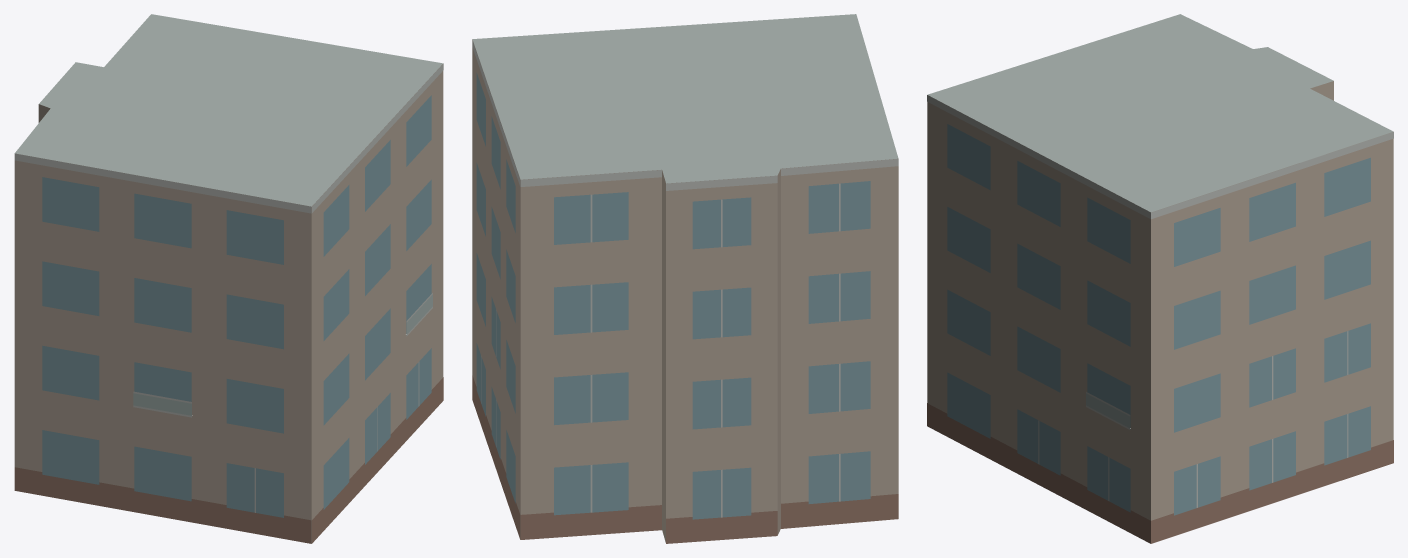
File: survey-upis-32822344.glb
3 views of the same model, side by side, from view 1: azimuth 30°, elevation 25°; view 2: azimuth 150°, elevation 25°; view 3: azimuth 270°, elevation 25° (orthographic). The views are drawn at different scales.
Visible parts, largest first — view 1: survey-upis-32822344.tmp; view 2: survey-upis-32822344.tmp; view 3: survey-upis-32822344.tmp.
Boxes of the visible parts, box(x1,y1,x2,y2) form: survey-upis-32822344.tmp: box(14, 14, 443, 543); survey-upis-32822344.tmp: box(472, 14, 898, 543); survey-upis-32822344.tmp: box(927, 14, 1393, 543).
Size of the model in its own units: 15.03 by 11.7 by 14.94.
